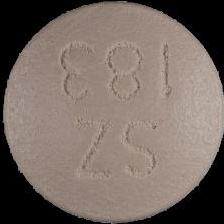0179-0089: (0, 0, 224, 224)
